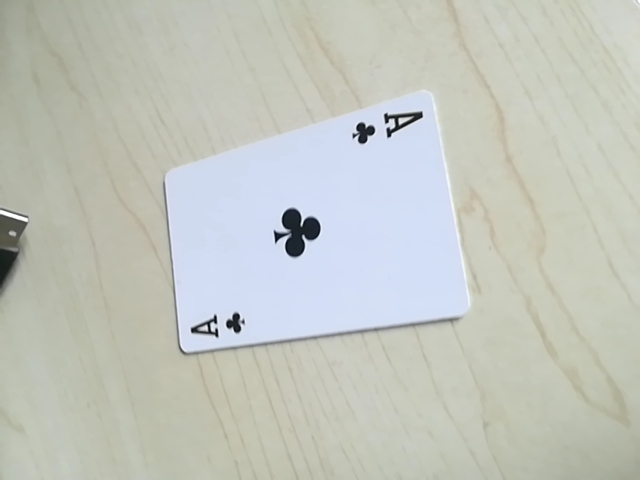mh a: (347, 104, 429, 153), (185, 301, 254, 350)
